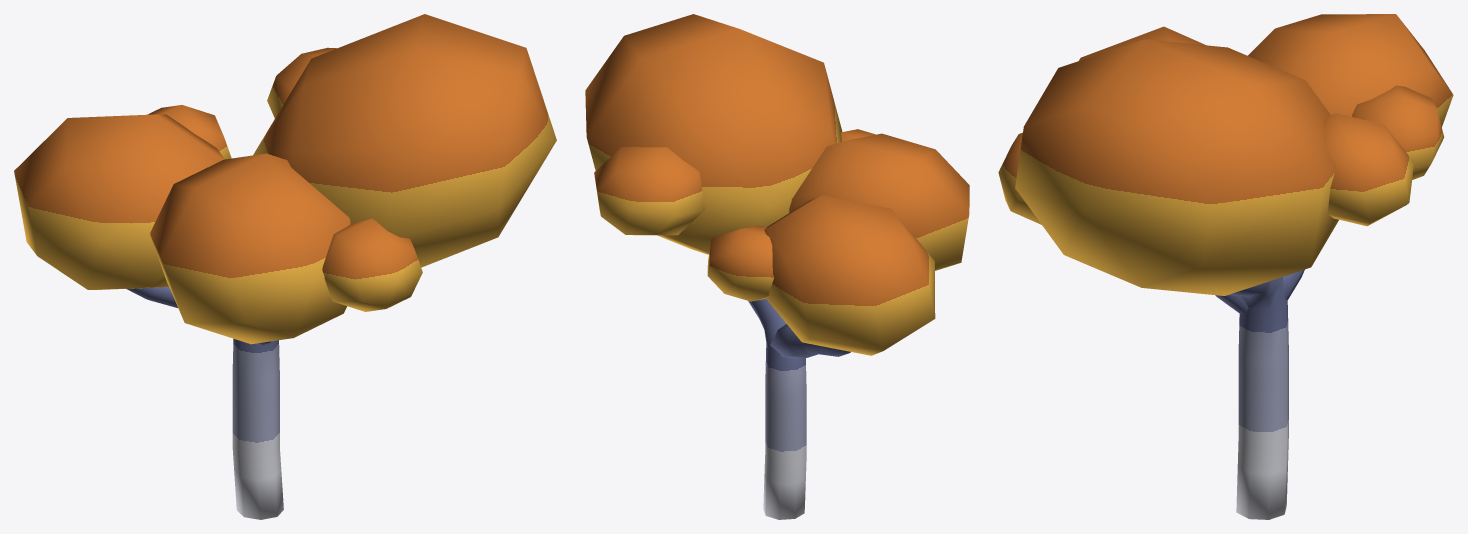
The model's file is Tree_Y_1.fbx.
3 renders of one model, left to right at view 1: azimuth 30°, elevation 25°; view 2: azimuth 150°, elevation 25°; view 3: azimuth 270°, elevation 25°, orthographic. The views are drawn at different scales.
Parts seen in each view (by area): view 1: Tree06; view 2: Tree06; view 3: Tree06.
Part boxes in pixels (left/top/right/bottom): Tree06: left=14, top=14, right=556, bottom=519; Tree06: left=585, top=14, right=969, bottom=519; Tree06: left=998, top=14, right=1453, bottom=519.
Bounding box in the file's own units: 669 × 687 × 540.
Materials: 1 (1 with a texture image).
